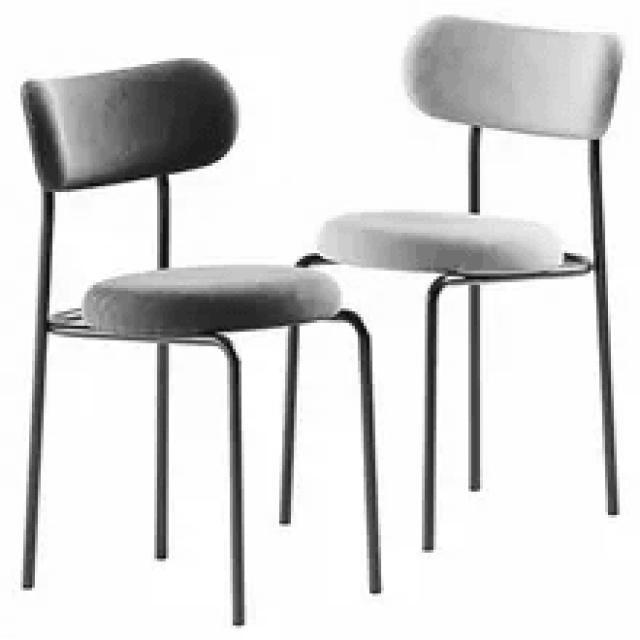chair: (19, 56, 382, 625), (286, 13, 623, 554)
